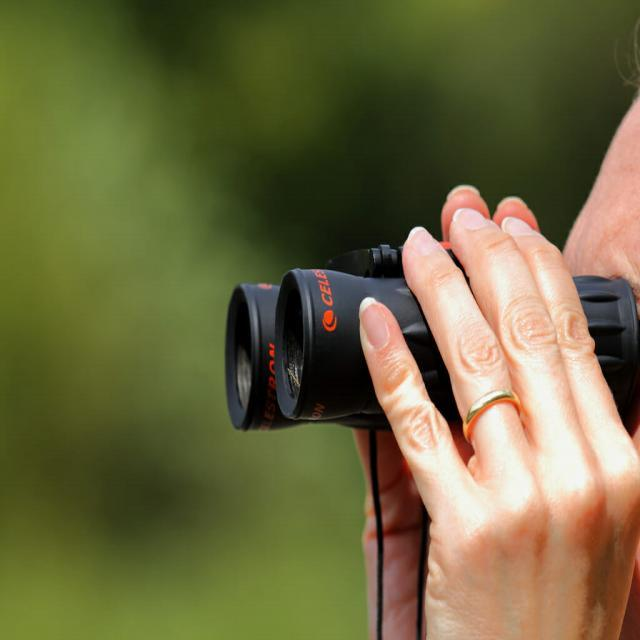Binocular: (194, 228, 640, 441)
